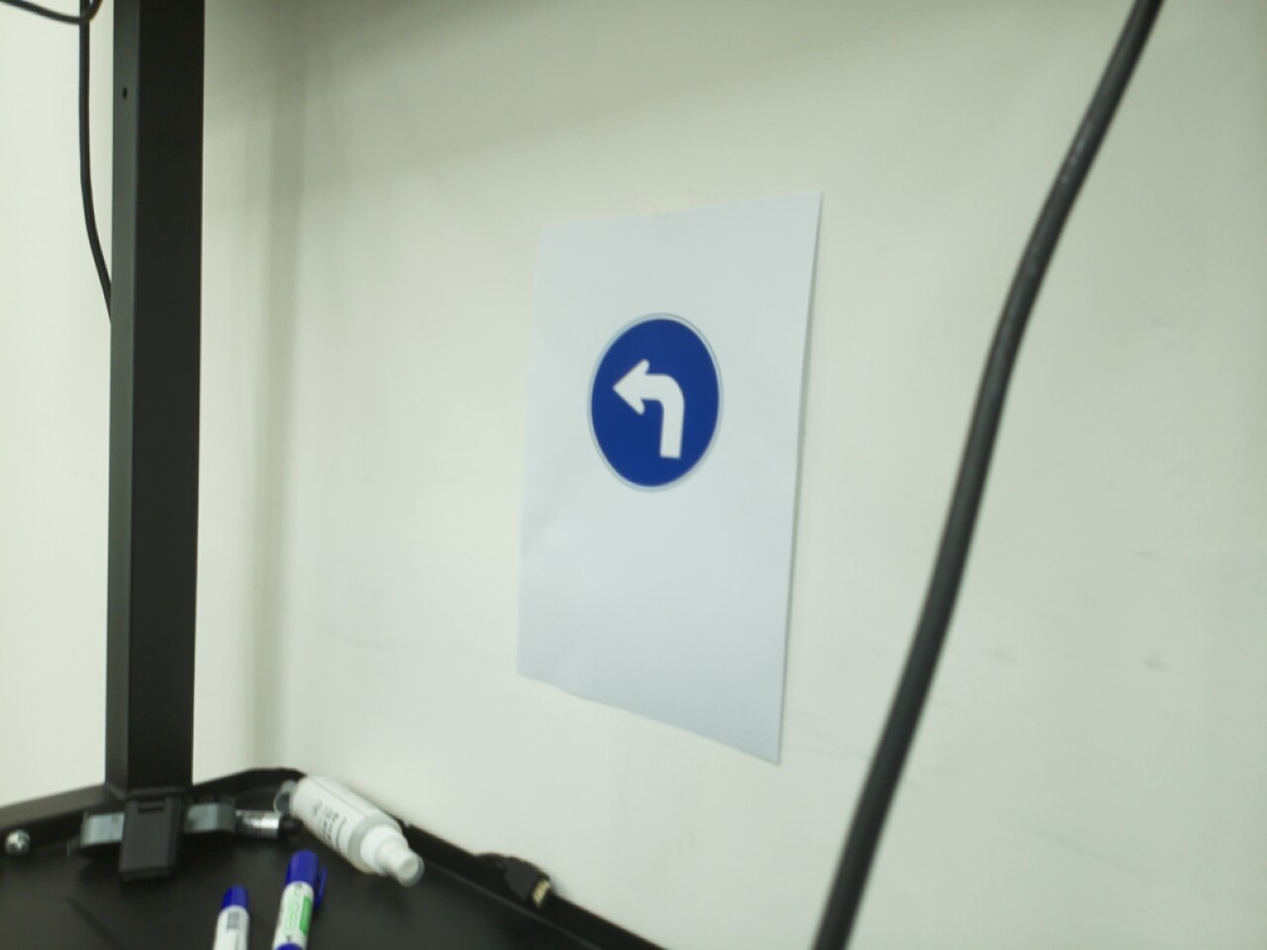left_turn: (585, 312, 726, 494)
